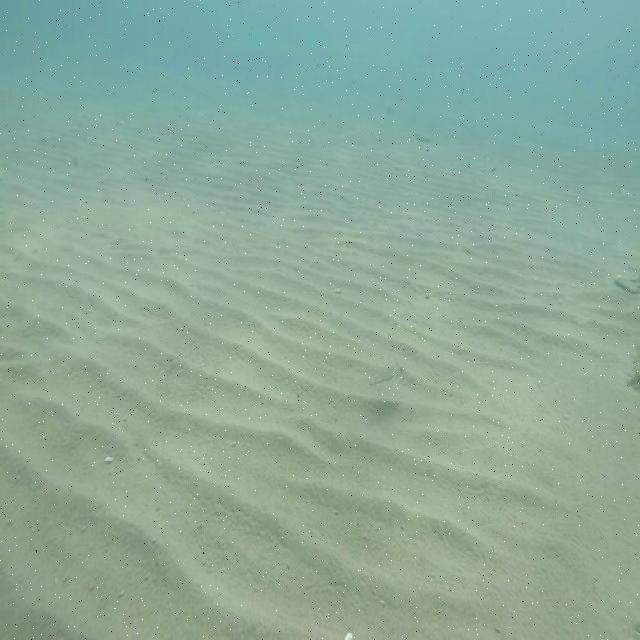Balik: (371, 365, 407, 384)
